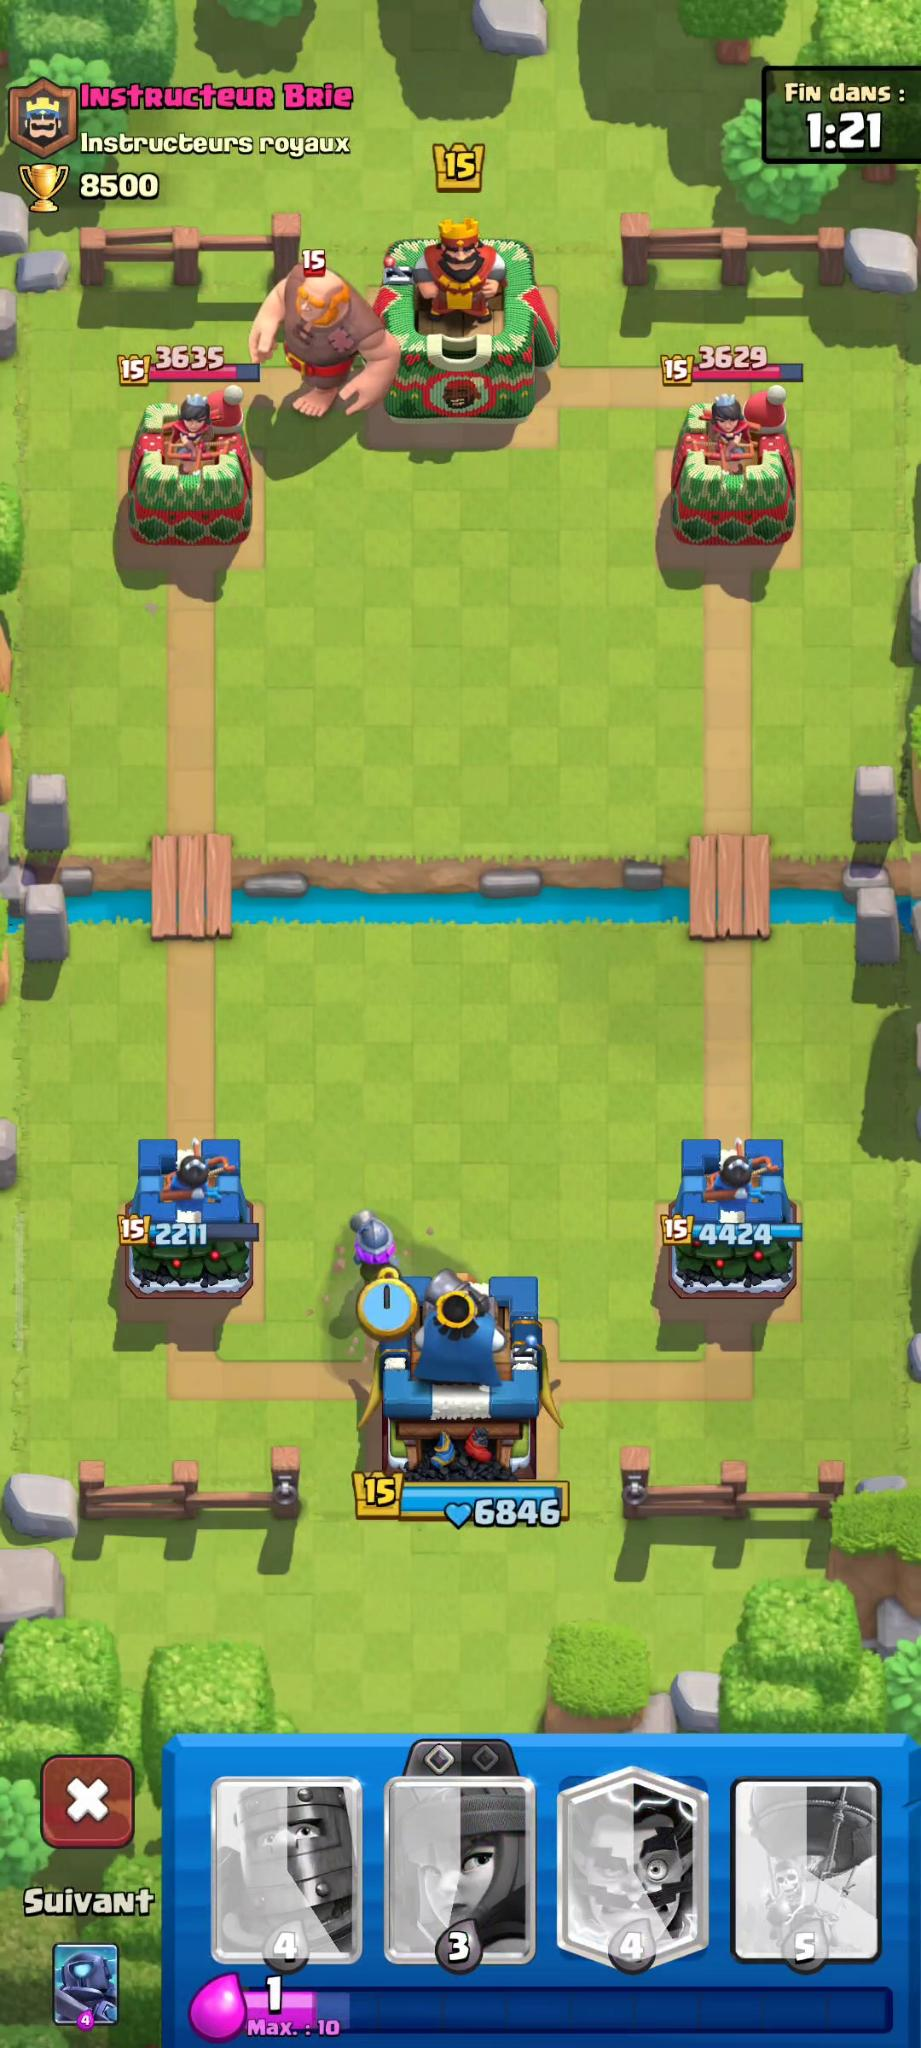geant: (244, 244, 392, 410)
mousquetaire: (328, 1189, 412, 1305)
